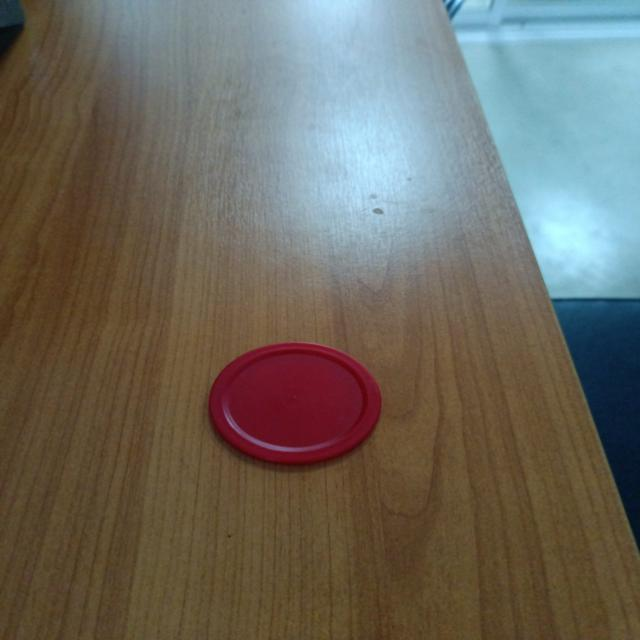chip: (205, 340, 384, 466)
